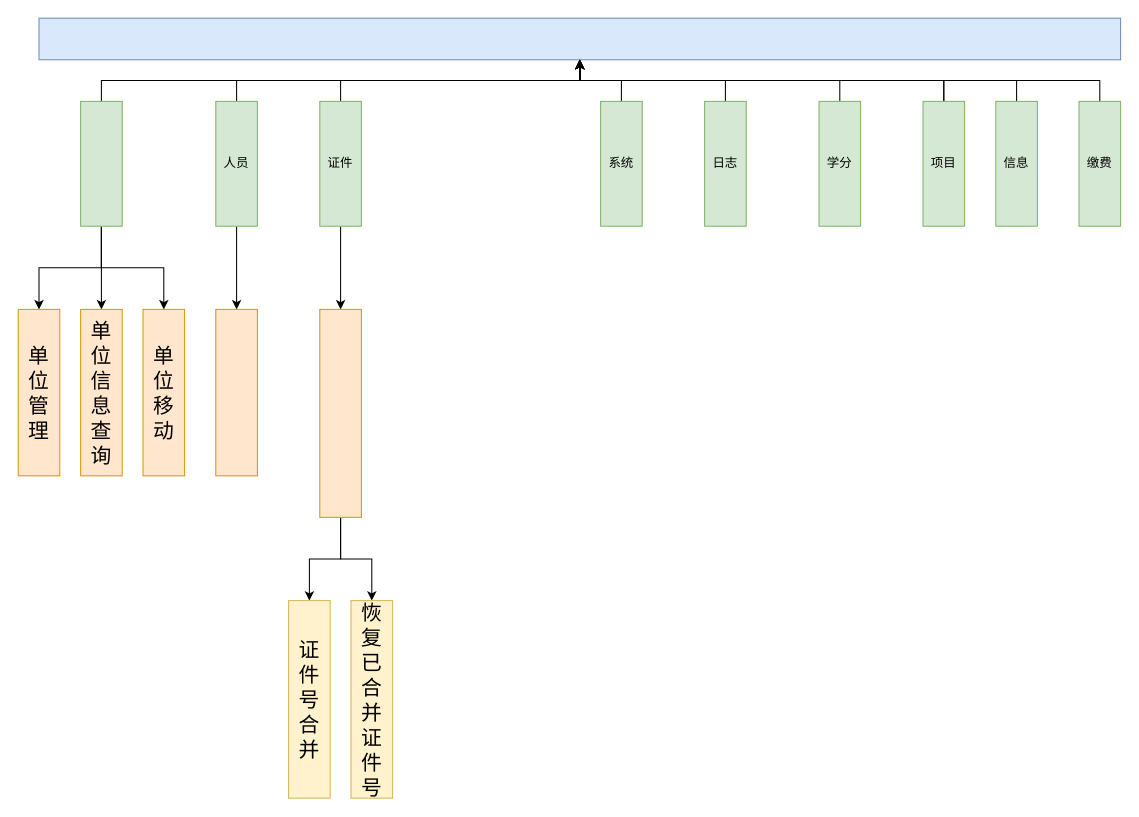
This 1139x817 diagram has some shape labels left out. Each missing label, with the box of its shape:
人员管理: (215, 308, 257, 476)
单位: (80, 100, 122, 226)
继续医学教育系统后台: (38, 17, 1121, 60)
证件号合并与恢复: (319, 308, 361, 517)
